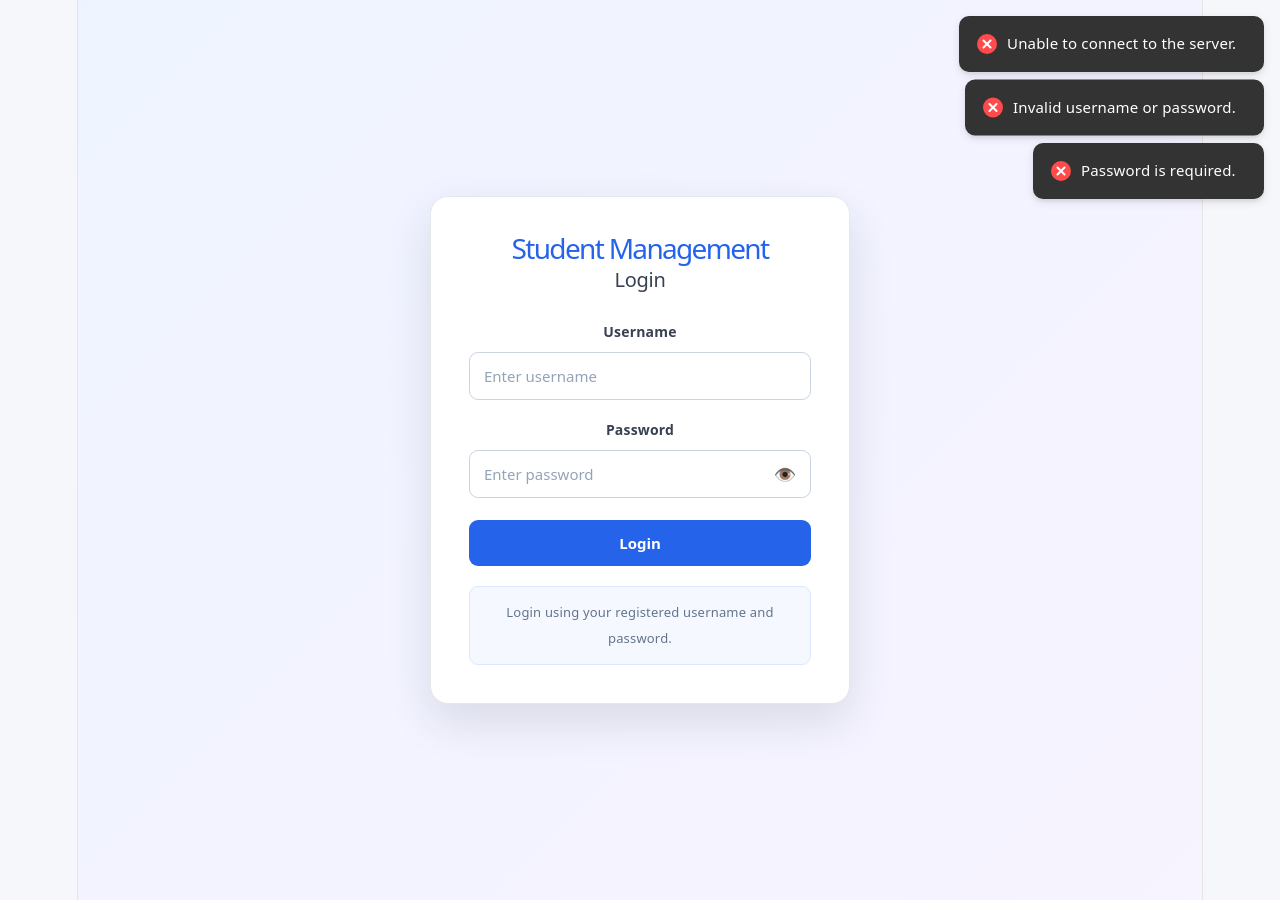
Test: Login form › logs in successfully when the API returns valid credentials
This screenshot has width=1280, height=900.
In the field labelled "Username": (640, 376) [469,352,811,400], type "testuser"
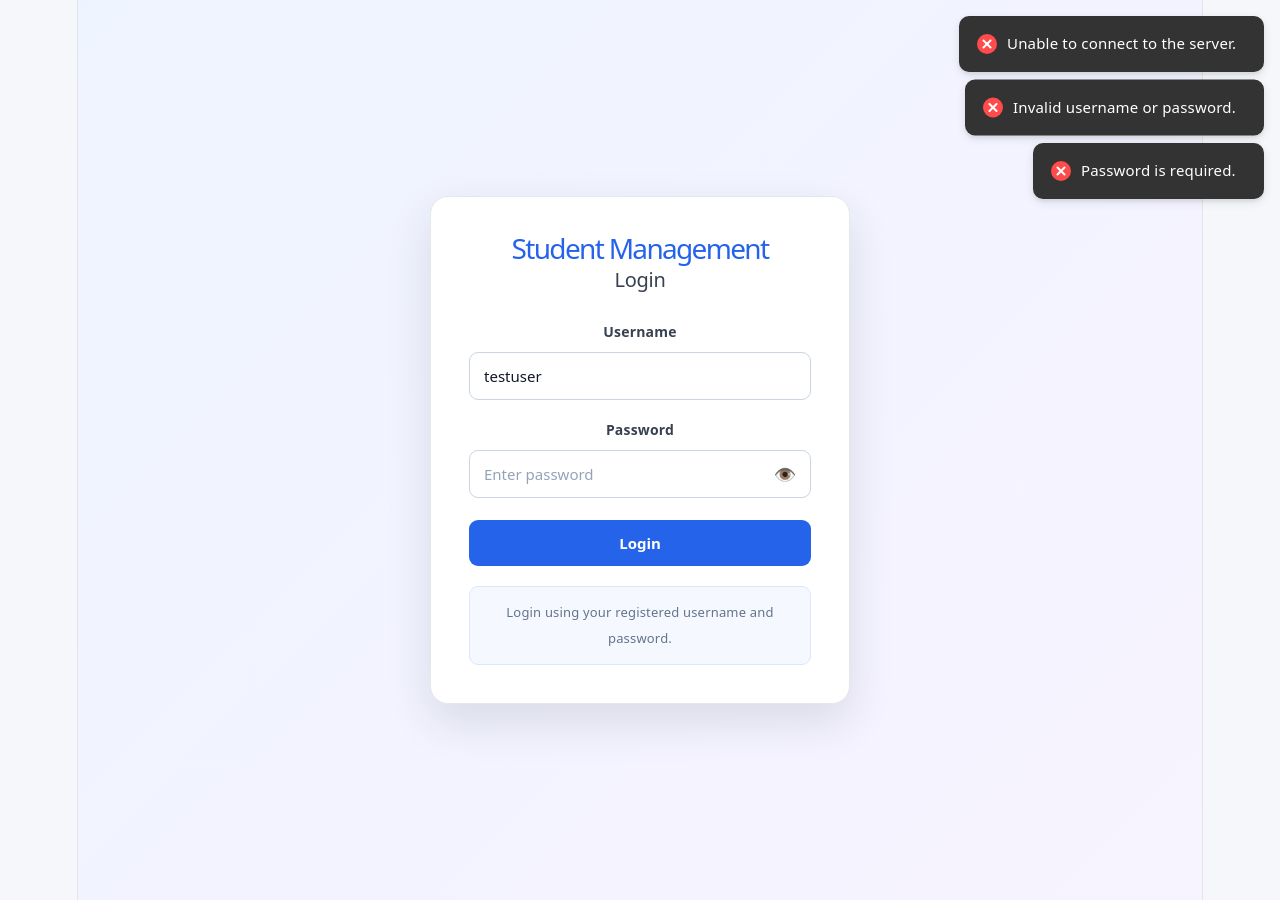
In the password field labelled "Password": (640, 474) [469,450,811,498], type "correctpassword"
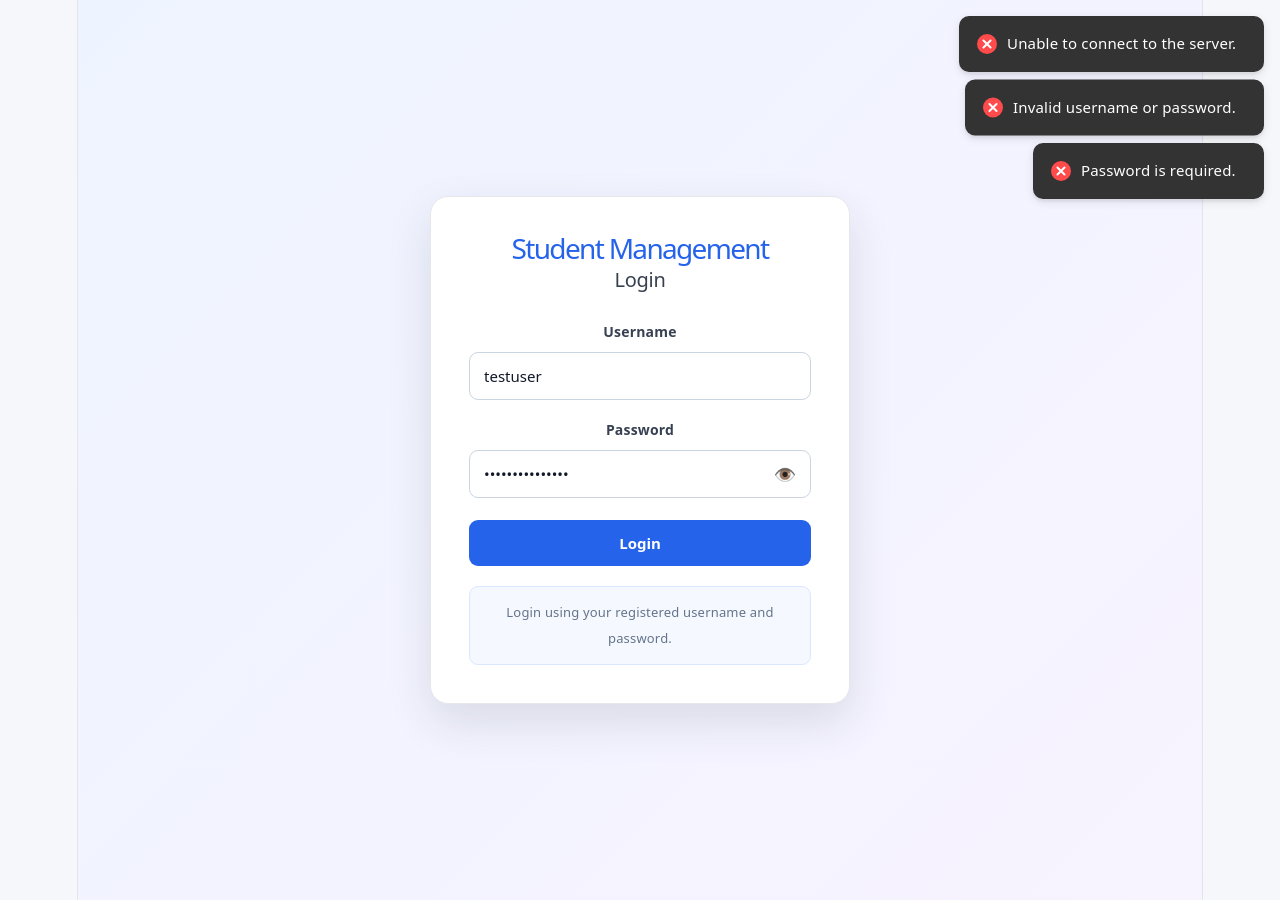
Click the button "Login": (640, 543) [469,520,811,566]
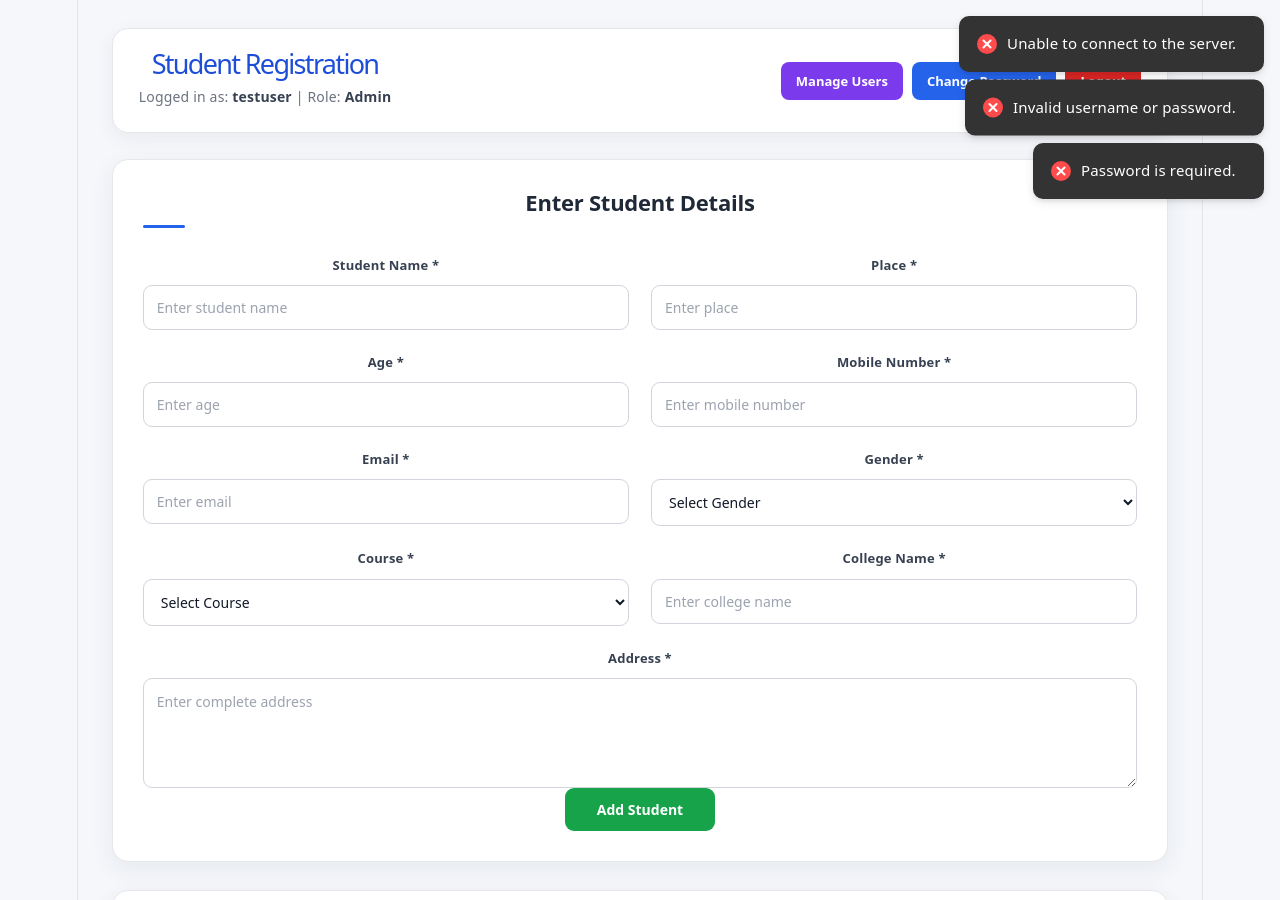
Expected: the text "testuser" is shown, [232,87,292,106]
Expected: the text "Admin" is shown, [345,87,391,106]
Expected: the button "Logout" is shown, [1065,62,1141,100]
